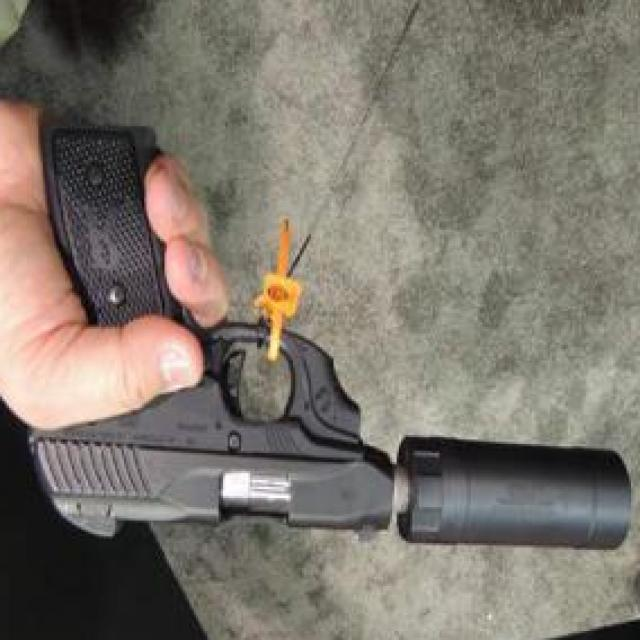pistol: (18, 125, 405, 543)
